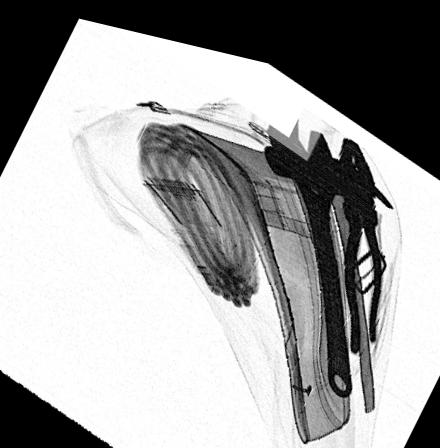Hammer: (260, 132, 397, 394)
Pliers: (333, 116, 383, 338)
Wrench: (276, 102, 356, 383)
